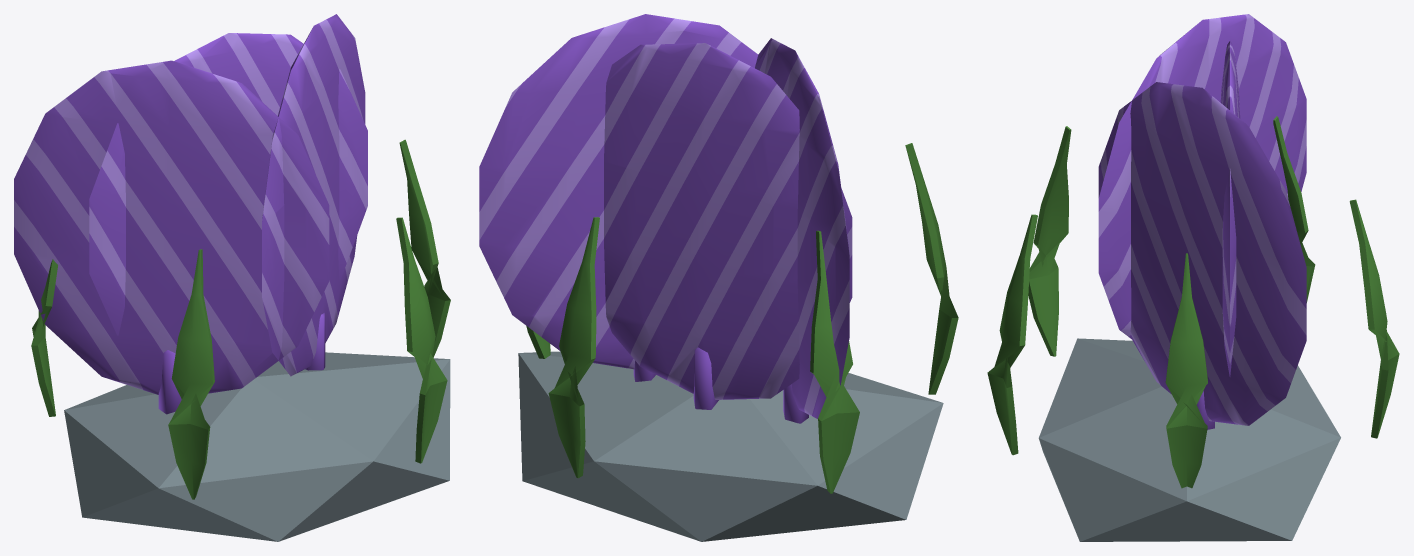
File: W2_Coral_C.fbx
The picture shows the model from 3 angles, left to right: view 1: azimuth 30°, elevation 25°; view 2: azimuth 150°, elevation 25°; view 3: azimuth 270°, elevation 25°; orthographic projection. The views are drawn at different scales.
Parts seen in each view (by area): view 1: W2_Coral_C; view 2: W2_Coral_C; view 3: W2_Coral_C.
Part boxes in pixels (bbox=[...]): W2_Coral_C: bbox=[14, 14, 450, 541]; W2_Coral_C: bbox=[479, 14, 958, 541]; W2_Coral_C: bbox=[987, 14, 1399, 541].
Size of the model in its own units: 1.97 by 2.15 by 1.91.
